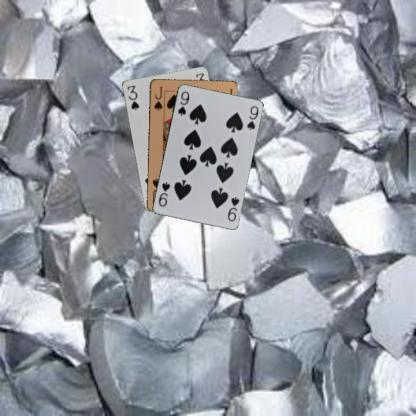3s: (124, 82, 140, 112)
9s: (175, 88, 191, 117), (224, 194, 240, 223)
Js: (152, 84, 164, 112)
